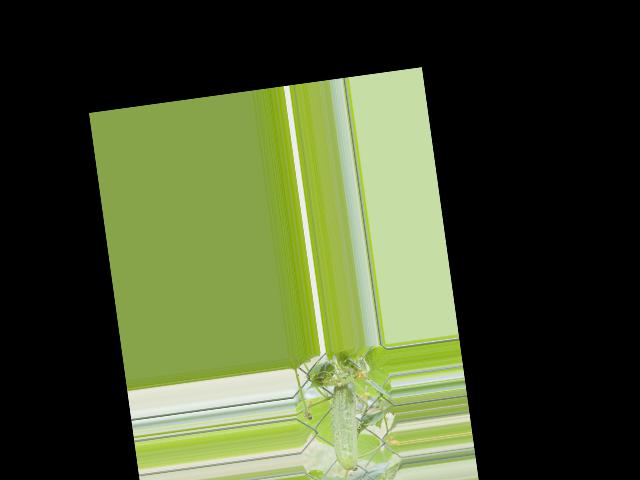cucumber: (324, 376, 365, 477)
